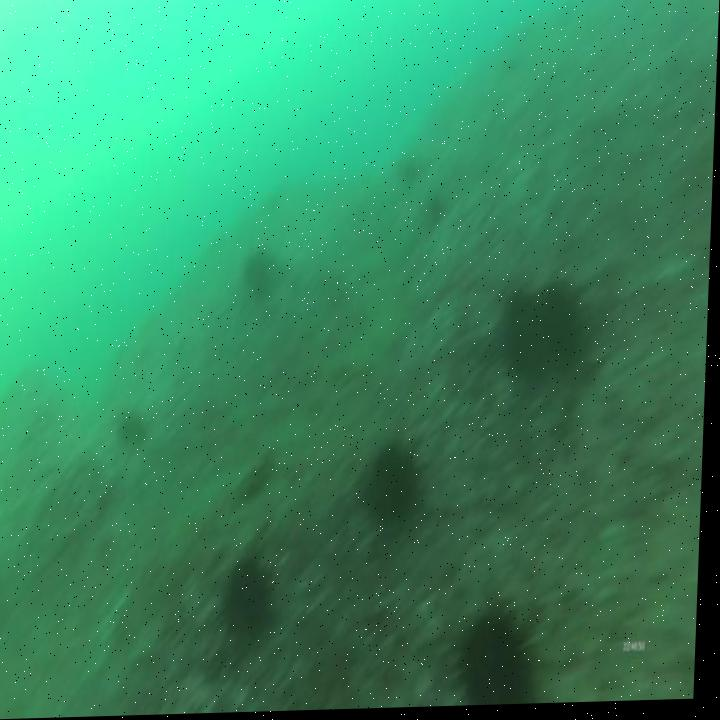echinus: (495, 283, 593, 397), (449, 598, 549, 709), (362, 438, 430, 535), (223, 553, 283, 647), (114, 407, 155, 465), (243, 246, 281, 304), (423, 190, 449, 242), (393, 153, 426, 193)
